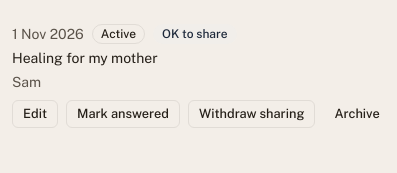
it: PrayerRequestList › Withdraw sharing surfaces a thrown error
Click the button "Withdraw sharing": (252,114) [188,100,315,128]
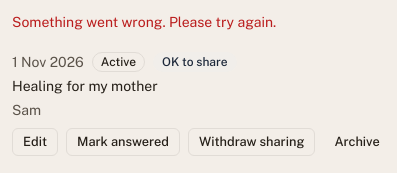
Expected: the text "Something went wrong. Please try again." is shown, [12,14,276,30]
